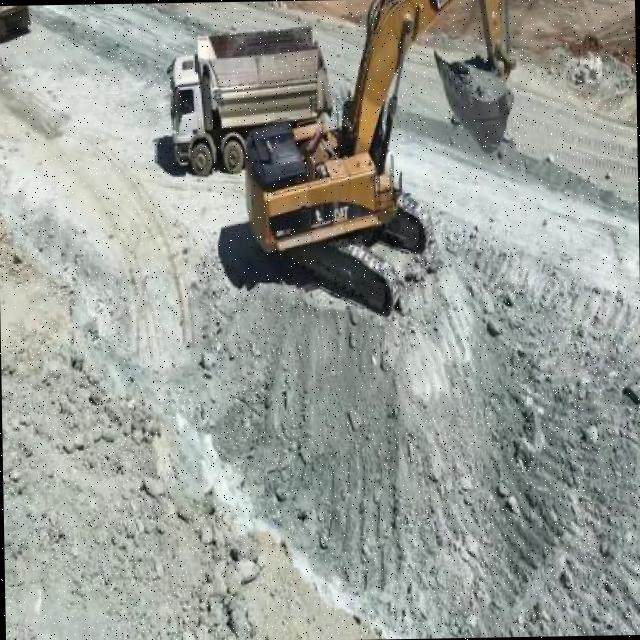Dump Truck: (166, 23, 334, 175)
Excavator: (238, 0, 523, 313)
